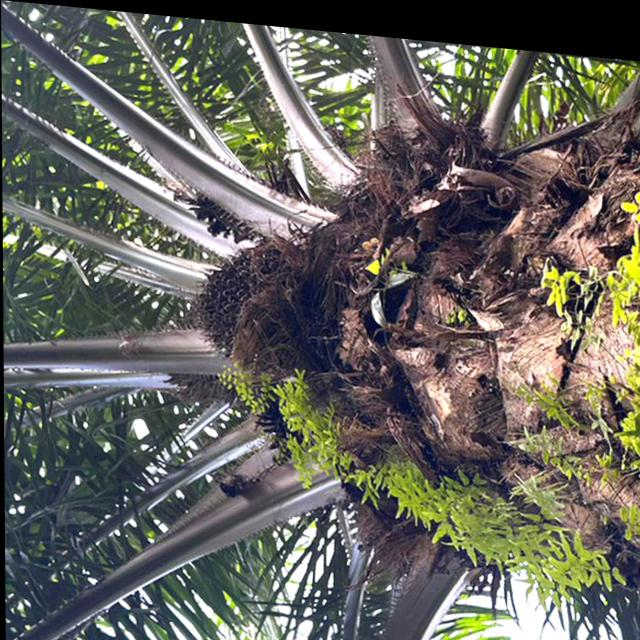almost: (187, 235, 290, 369)
